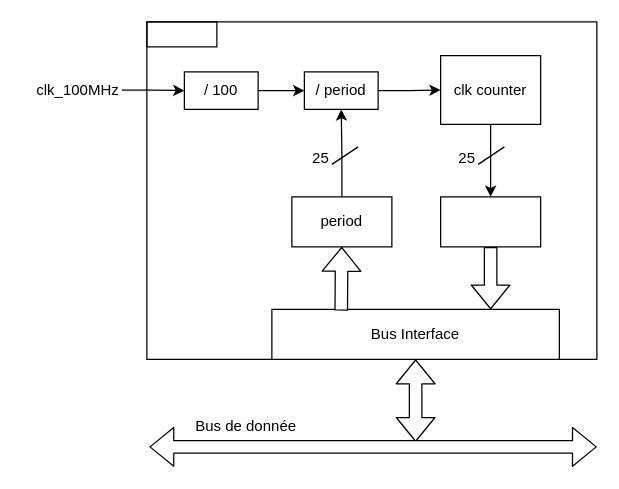
Some shapes in this 619 by 489 pixel diagram are drawn without their labels. The shapes that lost their labels are listed below. From the top down, each one's centre as x and y in pixels, then its label:
At (181,34): "Timer".
At (490,221): "cptValue".
